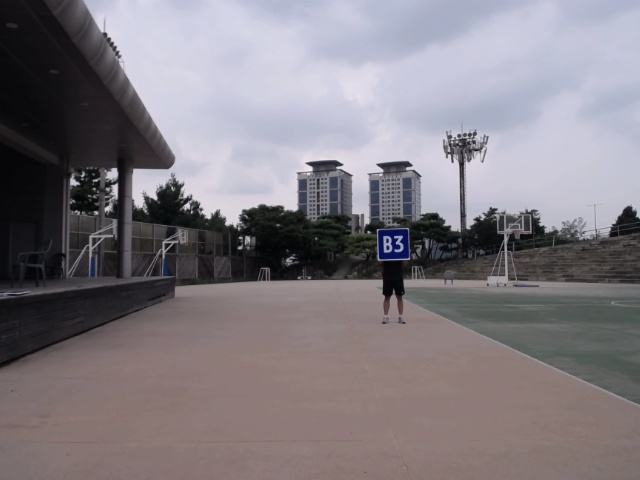delivery_b3: (375, 225, 413, 262)
